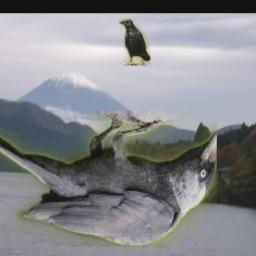Crow: (0, 111, 217, 247), (120, 19, 151, 67)
